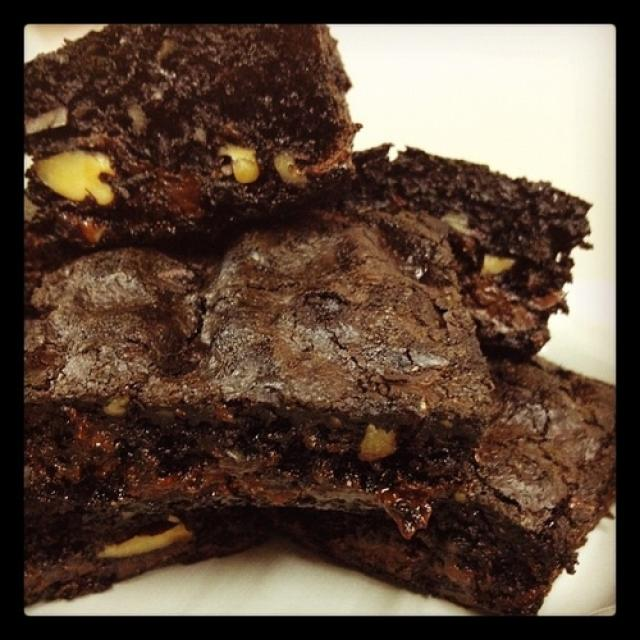蛋糕甜品: (36, 26, 621, 613)
